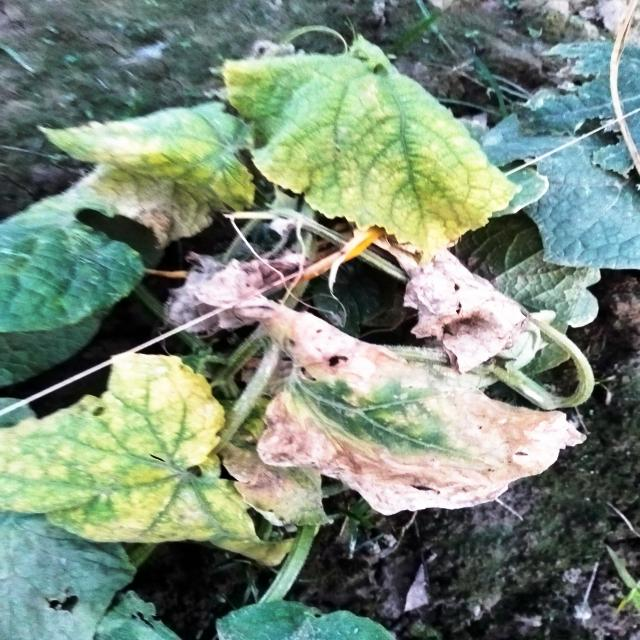Bacterial-Wilt: (224, 32, 524, 253), (394, 251, 530, 372)
